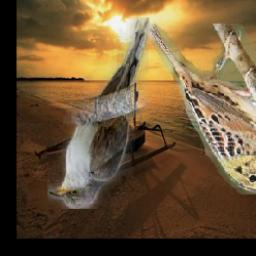Cuckoo: (49, 18, 151, 210)
Sparrow: (141, 25, 256, 196)
